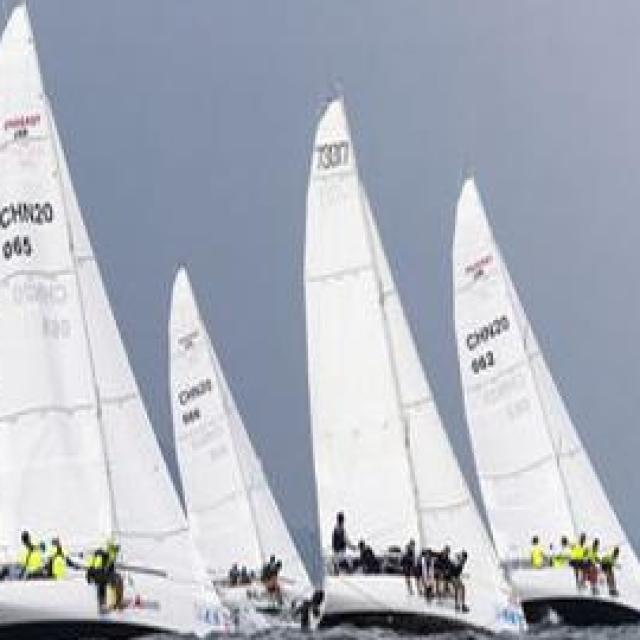sailboat: (0, 0, 239, 635), (267, 94, 507, 636), (426, 170, 640, 623), (145, 252, 322, 620)
